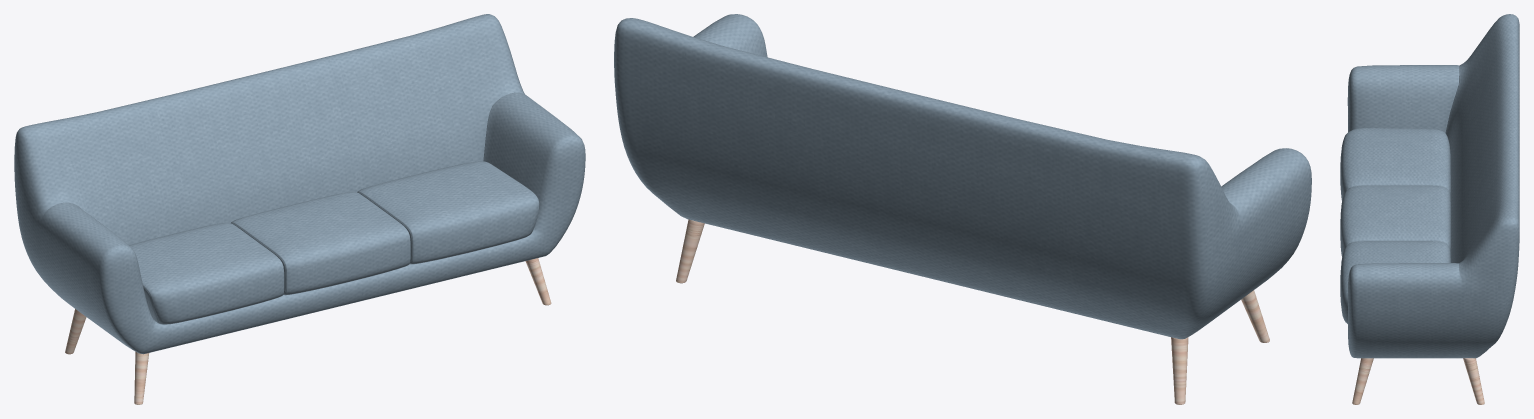
Rendered from sofa.gltf.
3 renders of one model, left to right at view 1: azimuth 30°, elevation 25°; view 2: azimuth 150°, elevation 25°; view 3: azimuth 270°, elevation 25°, orthographic. The views are drawn at different scales.
Visible parts, largest first — view 1: sofa_mesh_n3d, pillow_003_mesh_n3d, pillow_001_mesh_n3d, pillow_002_mesh_n3d, base_003_mesh_n3d, base_001_mesh_n3d; view 2: sofa_mesh_n3d, base_004_mesh_n3d, base_002_mesh_n3d, base_003_mesh_n3d; view 3: sofa_mesh_n3d, pillow_002_mesh_n3d, pillow_001_mesh_n3d, pillow_003_mesh_n3d, base_002_mesh_n3d, base_001_mesh_n3d.
Boxes of the visible parts, bbox=[...] form: sofa_mesh_n3d: bbox=[14, 14, 585, 354]; pillow_003_mesh_n3d: bbox=[357, 161, 539, 264]; pillow_001_mesh_n3d: bbox=[231, 192, 410, 295]; pillow_002_mesh_n3d: bbox=[129, 222, 284, 324]; base_003_mesh_n3d: bbox=[134, 351, 149, 404]; base_001_mesh_n3d: bbox=[525, 258, 551, 305]; sofa_mesh_n3d: bbox=[614, 14, 1311, 339]; base_004_mesh_n3d: bbox=[1171, 337, 1188, 404]; base_002_mesh_n3d: bbox=[676, 219, 704, 283]; base_003_mesh_n3d: bbox=[1241, 290, 1269, 342]; sofa_mesh_n3d: bbox=[1347, 14, 1519, 358]; pillow_002_mesh_n3d: bbox=[1340, 128, 1450, 200]; pillow_001_mesh_n3d: bbox=[1340, 185, 1450, 257]; pillow_003_mesh_n3d: bbox=[1340, 241, 1450, 323]; base_002_mesh_n3d: bbox=[1463, 358, 1484, 404]; base_001_mesh_n3d: bbox=[1352, 358, 1373, 404].
Size of the model in its own units: 3.87 by 1.66 by 1.37.
Materials: 2 (2 with a texture image).
